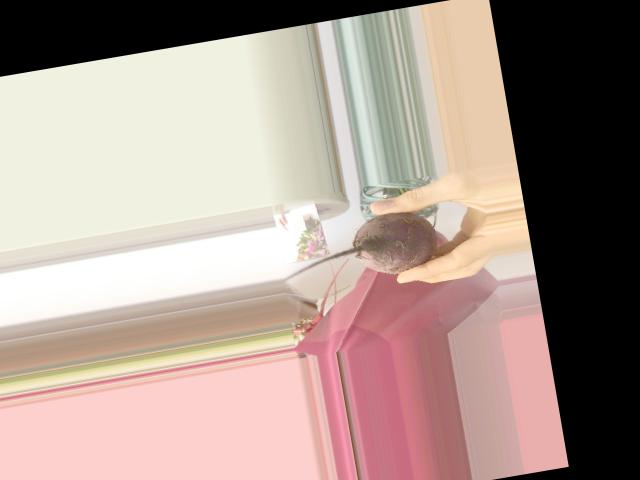beet: (273, 205, 443, 292)
